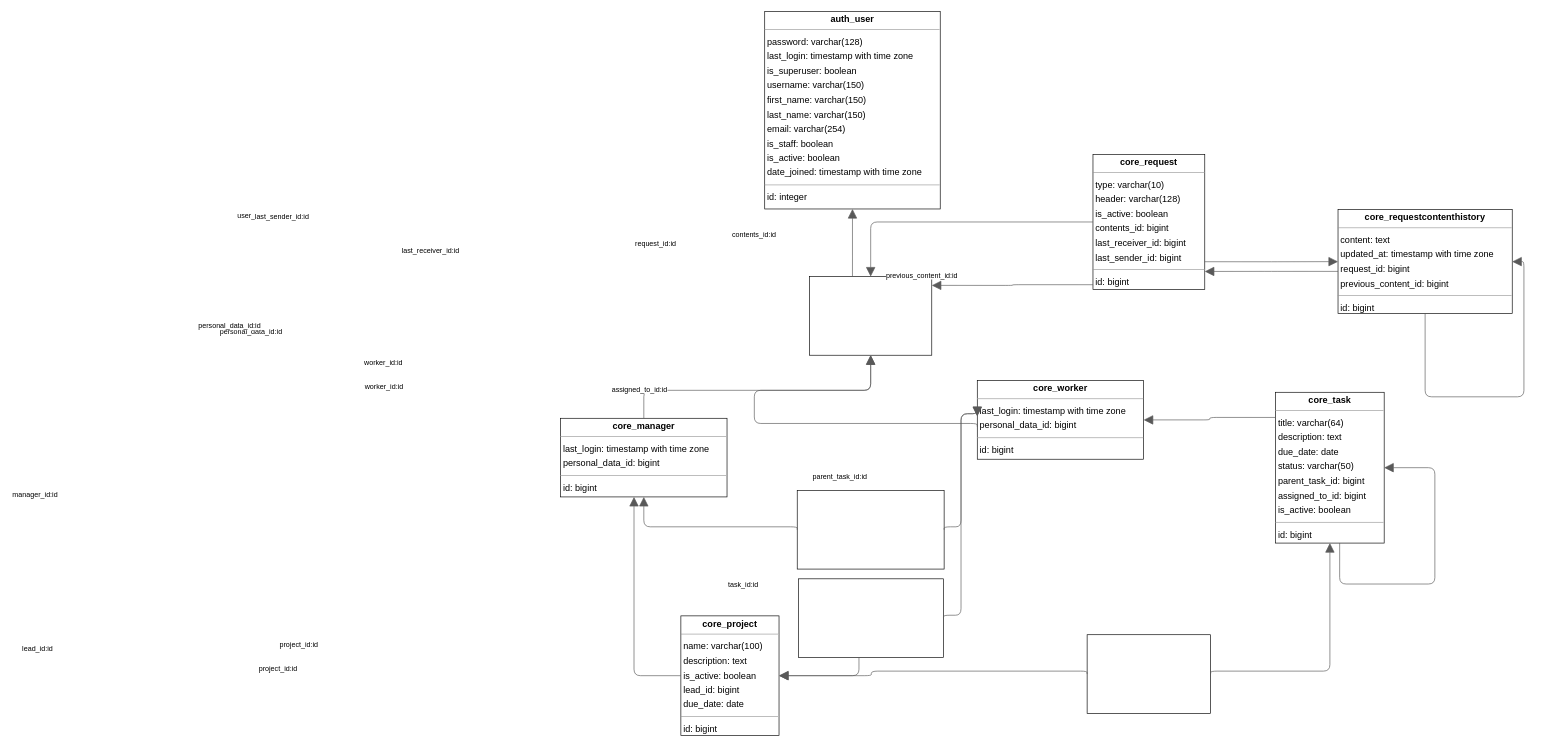
Image size: 1544x747. Some labels were removed from this diagram. Each missing label, with the centre of its shape:
core_personaldata b_date: date user_id: integer id: bigint: the point at 870,315
core_project_members project_id: bigint worker_id: bigint id: bigint: the point at 870,617
core_project_tasks project_id: bigint task_id: bigint id: bigint: the point at 1148,673
core_worker_managers worker_id: bigint manager_id: bigint id: bigint: the point at 870,529
